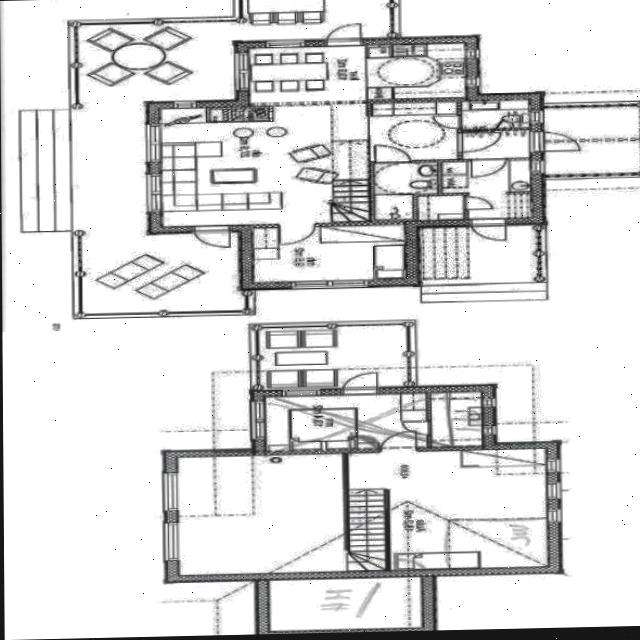room: (266, 392, 426, 450), (253, 224, 406, 281), (443, 159, 531, 219), (374, 162, 438, 218), (431, 391, 482, 445), (463, 129, 528, 158), (463, 99, 528, 128), (418, 195, 463, 219)
